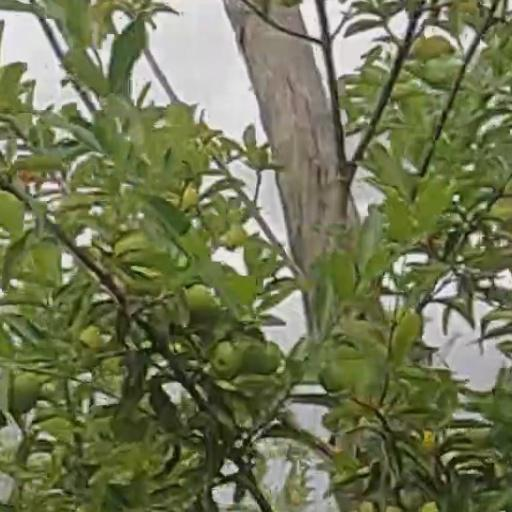acerola_verde: (213, 347, 240, 378)
